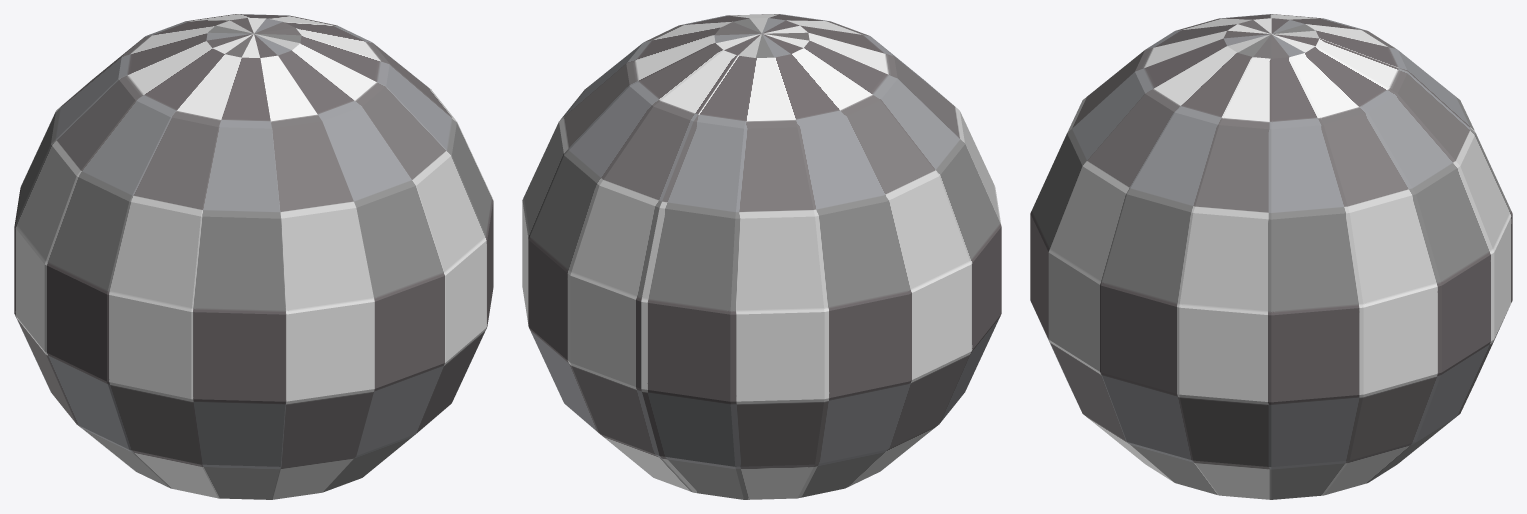
Rendered from bola.obj.
3 renders of one model, left to right at view 1: azimuth 30°, elevation 25°; view 2: azimuth 150°, elevation 25°; view 3: azimuth 270°, elevation 25°, orthographic.
Visible parts, largest first — view 1: Mesh; view 2: Mesh; view 3: Mesh.
Boxes of the visible parts, x1=… form: Mesh: x1=14, y1=14, x2=493, y2=499; Mesh: x1=522, y1=14, x2=1001, y2=499; Mesh: x1=1030, y1=14, x2=1512, y2=499.
Bounding box in the file's own units: 1.96 × 2 × 1.96.
Materials: 1 (1 with a texture image).
